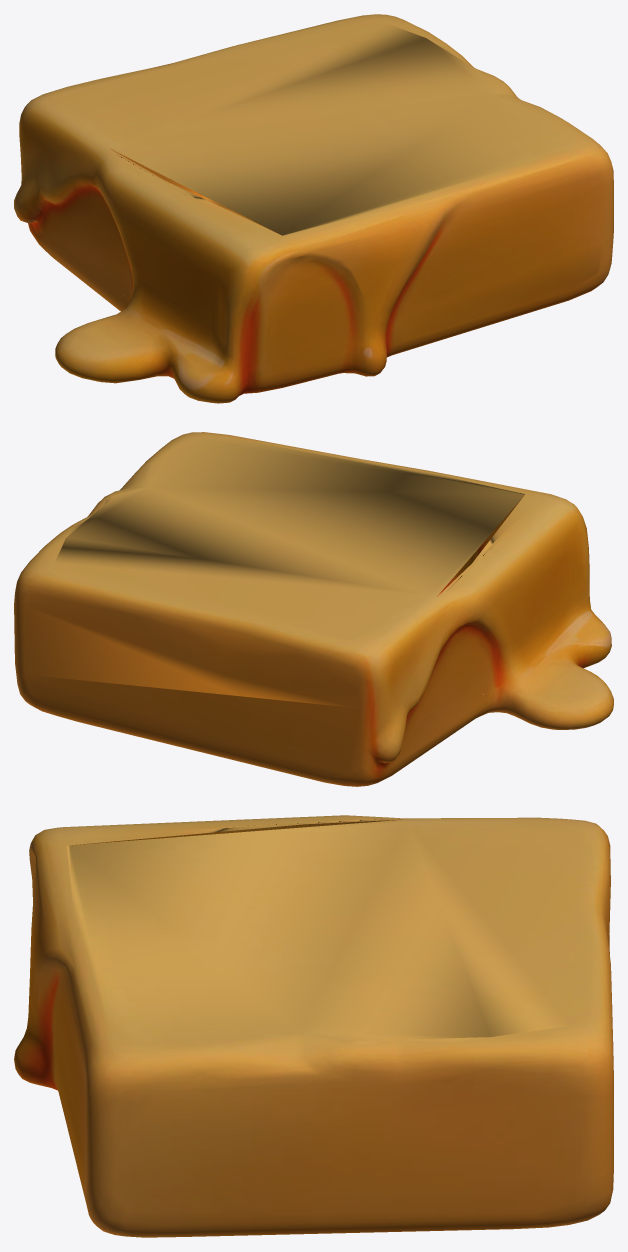
Rendered from cheese.optimized.glb.
3 renders of one model, top to bottom at view 1: azimuth 30°, elevation 25°; view 2: azimuth 150°, elevation 25°; view 3: azimuth 270°, elevation 25°, orthographic. The views are drawn at different scales.
Visible parts, largest first — view 1: material; view 2: material; view 3: material.
Part boxes in pixels (box(x1,y1,x2,y2)): material: box(14, 14, 613, 403); material: box(14, 432, 613, 786); material: box(14, 815, 613, 1237).
Size of the model in its own units: 1.9 by 0.5546 by 1.55.
1 material, 1 textured.
